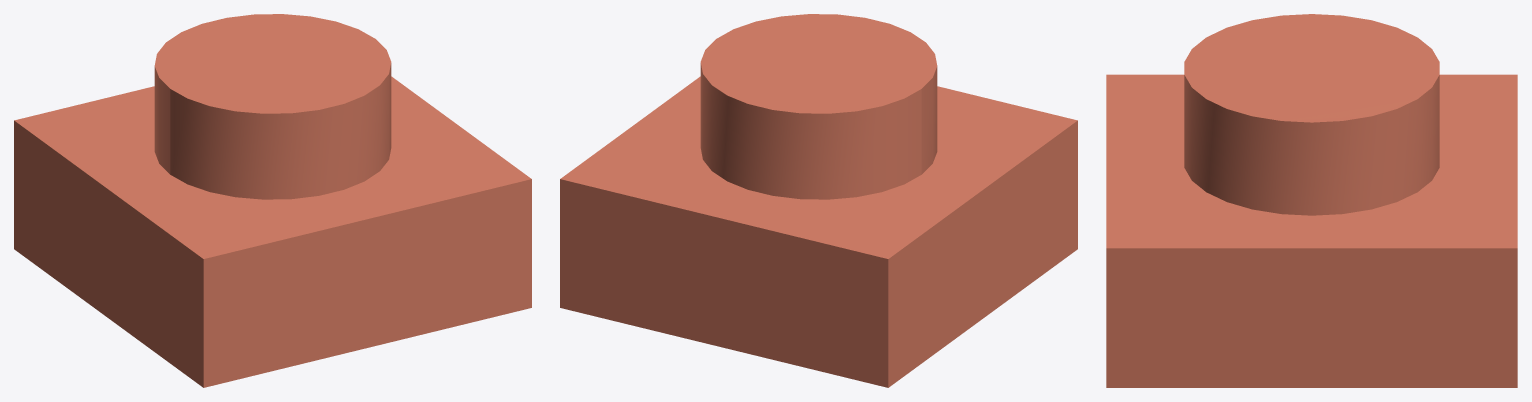
The picture shows the model from 3 angles, left to right: view 1: azimuth 30°, elevation 25°; view 2: azimuth 150°, elevation 25°; view 3: azimuth 270°, elevation 25°; orthographic projection. The views are drawn at different scales.
Visible parts, largest first — view 1: [pivoted]; view 2: [pivoted]; view 3: [pivoted].
Part boxes in pixels (<box>): [pivoted]: <box>14,14,531,387</box>; [pivoted]: <box>560,14,1077,387</box>; [pivoted]: <box>1106,14,1517,387</box>.
Size of the model in its own units: 0.8 by 0.5 by 0.8.
